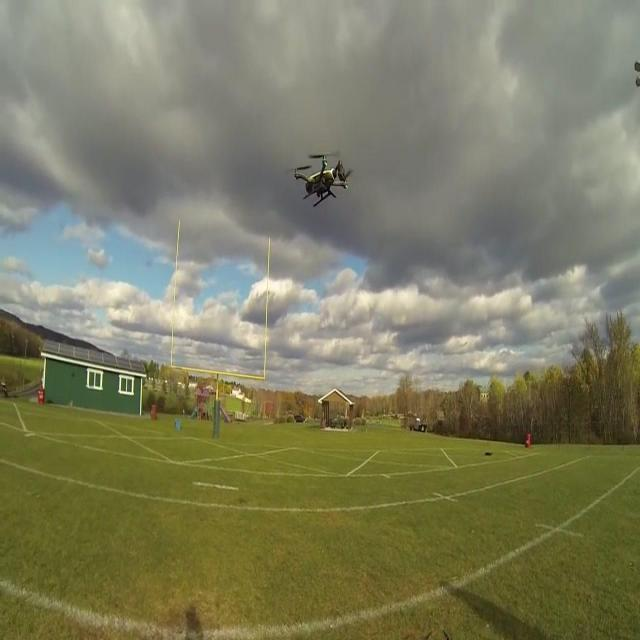UAV: (290, 154, 354, 207)
